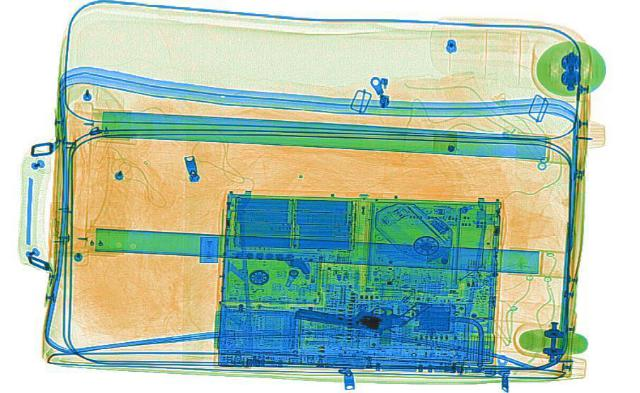Gun: (290, 283, 432, 334)
